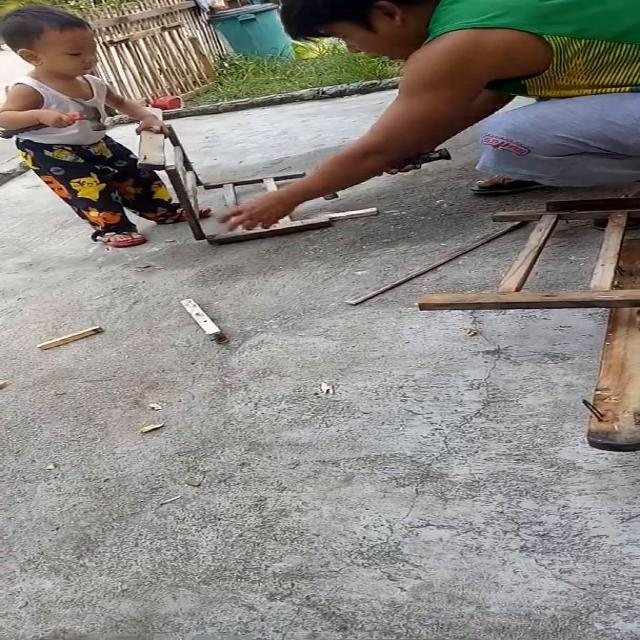hammer: (0, 98, 107, 139)
